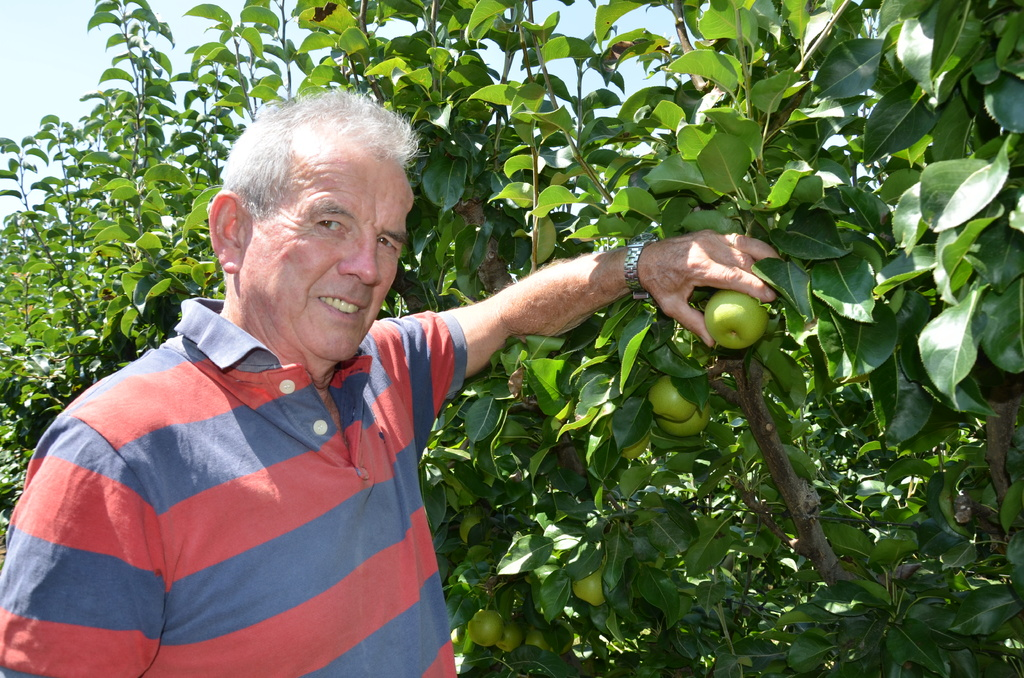Apple: (689, 283, 771, 347), (647, 375, 700, 421), (656, 399, 716, 438), (572, 559, 608, 608), (465, 612, 505, 649), (496, 621, 523, 656), (619, 432, 648, 464), (528, 622, 548, 652)
